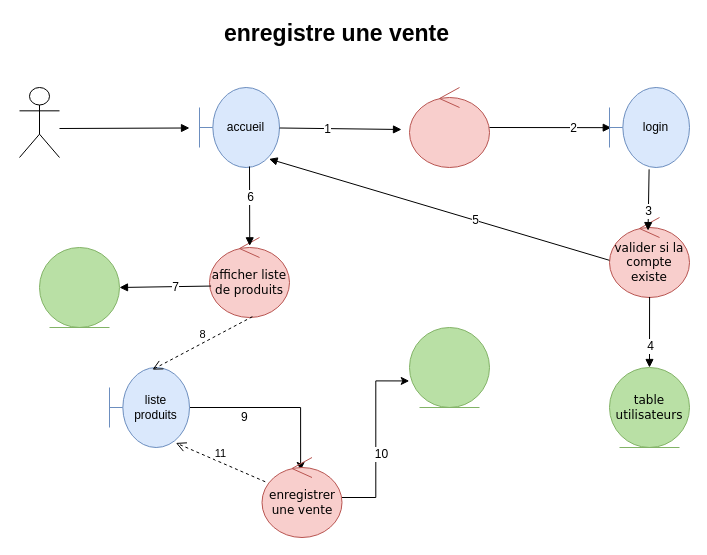
Some shapes in this 707 by 555 pixel diagram are drawn without their labels. The shapes that lost their labels are listed below. From the top down, each one's centre as x and y in pixels, then its label:
At pixel 39 122: "employé".
At pixel 449 127: "se connecter".
At pixel 79 287: "table produits".
At pixel 449 367: "ventes".
